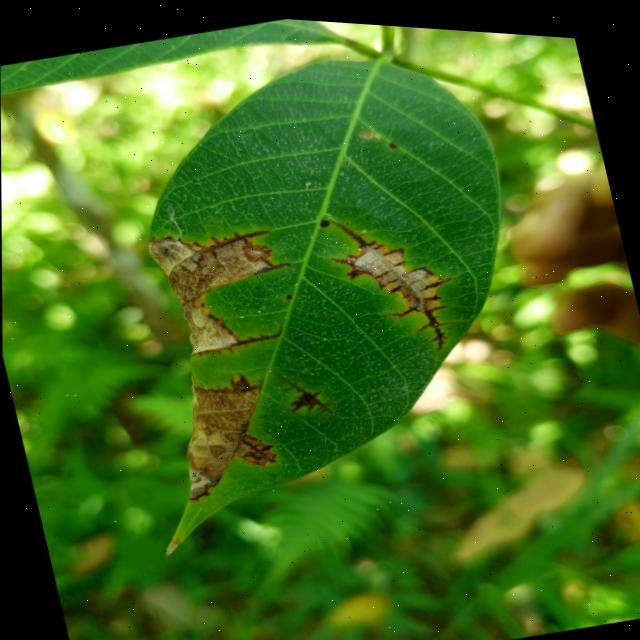Colletotrichum: (319, 214, 330, 224)
Corynespora: (322, 194, 467, 365), (186, 319, 287, 367), (276, 359, 338, 422), (191, 217, 273, 260)
Leaf-Blight: (145, 213, 289, 360), (162, 365, 280, 501)
